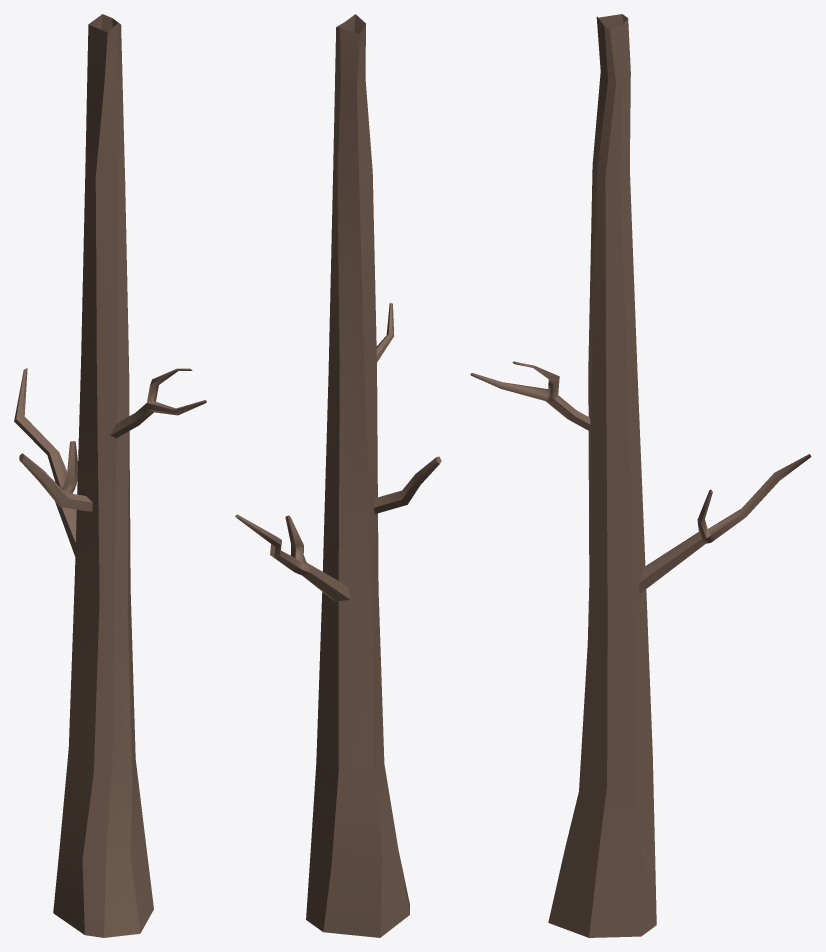
File: tree01.fbx
3 views of the same model, side by side, from view 1: azimuth 30°, elevation 25°; view 2: azimuth 150°, elevation 25°; view 3: azimuth 270°, elevation 25° (orthographic).
Visible parts, largest first — view 1: polySurface2; view 2: polySurface2; view 3: polySurface2.
Part boxes in pixels (bbox=[...]): polySurface2: bbox=[14, 14, 206, 937]; polySurface2: bbox=[235, 14, 441, 937]; polySurface2: bbox=[470, 14, 811, 937].
Bounding box in the file's own units: 23.73 × 162 × 55.08.
